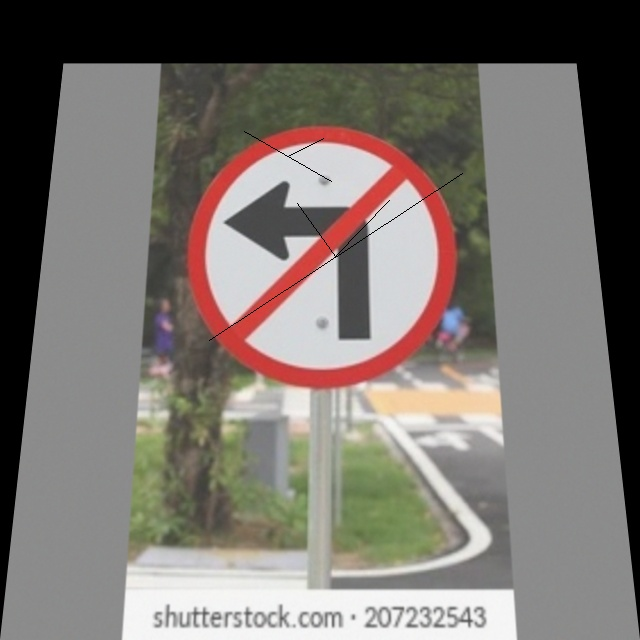Left_Turn_Prohibited: (179, 125, 468, 392)
